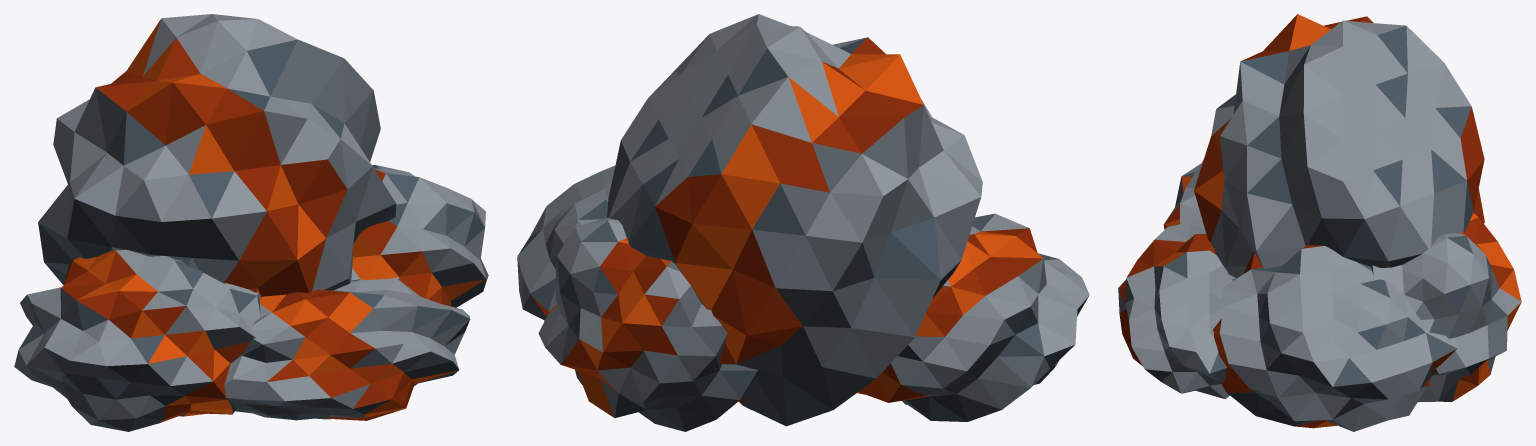
Rendered from node-metal.glb.
The picture shows the model from 3 angles, left to right: view 1: azimuth 30°, elevation 25°; view 2: azimuth 150°, elevation 25°; view 3: azimuth 270°, elevation 25°; orthographic projection. The views are drawn at different scales.
Parts seen in each view (by area): view 1: node-metal-stone; view 2: node-metal-stone; view 3: node-metal-stone.
Part boxes in pixels (bbox=[...]): node-metal-stone: bbox=[14, 14, 488, 431]; node-metal-stone: bbox=[517, 14, 1089, 431]; node-metal-stone: bbox=[1118, 14, 1521, 431].
Bounding box in the file's own units: 2.55 × 1.82 × 1.97.
